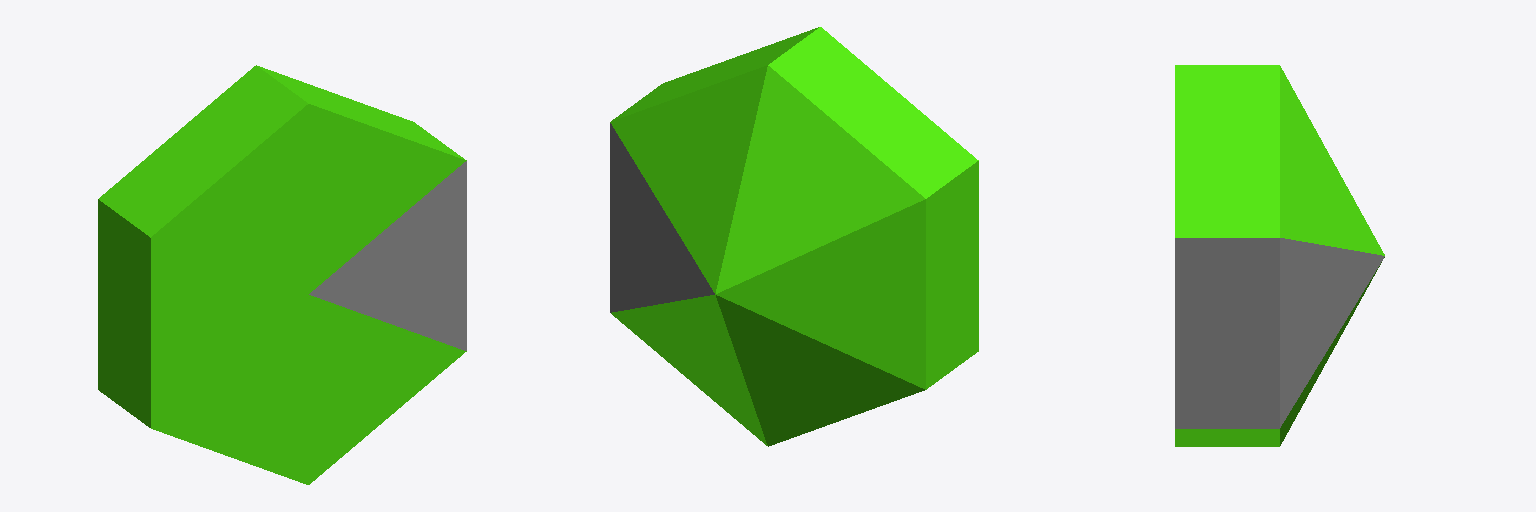
Rendered from hexanodes.obj.
3 renders of one model, left to right at view 1: azimuth 30°, elevation 25°; view 2: azimuth 150°, elevation 25°; view 3: azimuth 270°, elevation 25°, orthographic.
Visible parts, largest first — view 1: hexanodes; view 2: hexanodes; view 3: hexanodes.
Boxes of the visible parts, <box> form: hexanodes: <box>98,65,466,484</box>; hexanodes: <box>610,27,978,446</box>; hexanodes: <box>1175,65,1384,446</box>.
Bounding box in the file's own units: 43.3 × 50 × 25.